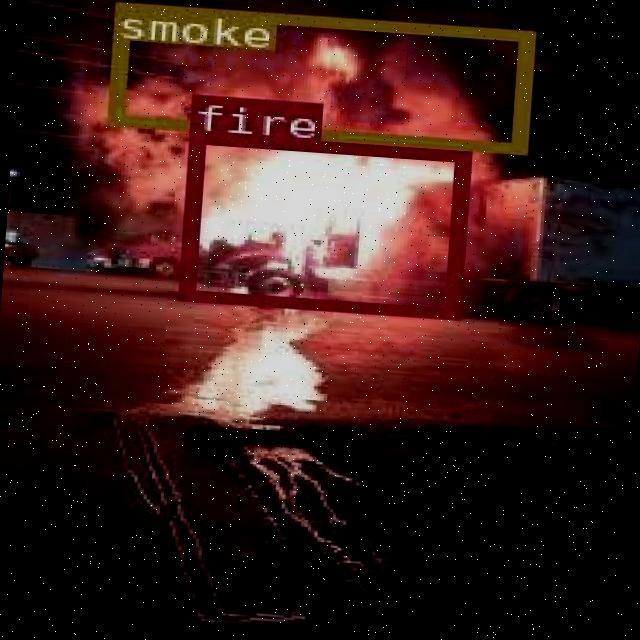fire: (176, 131, 467, 316)
smoke: (104, 0, 530, 150)
